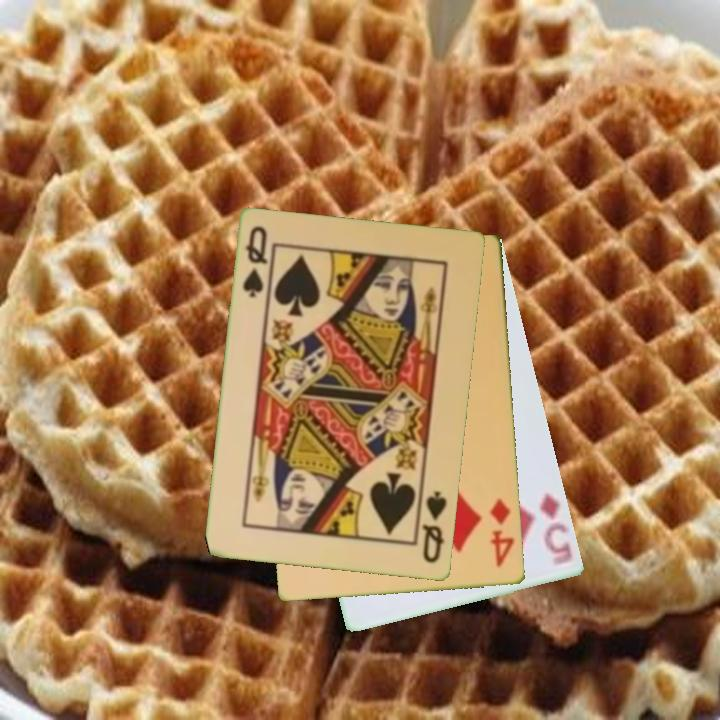4d: (486, 496, 518, 571)
5d: (536, 489, 576, 569)
Qs: (419, 488, 450, 567), (240, 223, 271, 301)
